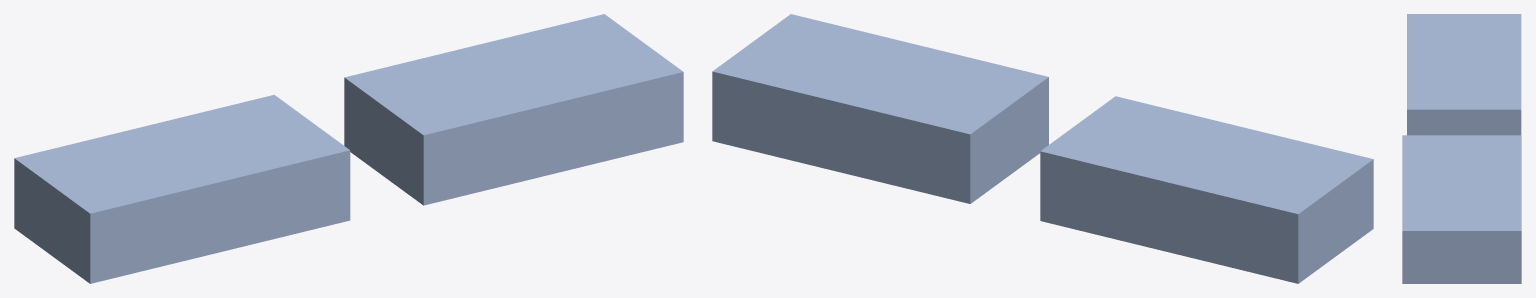
Rendered from Sodium_Hypochlorite_Storage_Tank.glb.
3 views of the same model, side by side, from view 1: azimuth 30°, elevation 25°; view 2: azimuth 150°, elevation 25°; view 3: azimuth 270°, elevation 25° (orthographic). The views are drawn at different scales.
Parts seen in each view (by area): view 1: Floor1; view 2: Floor1; view 3: Floor1.
Part boxes in pixels (bbox=[...]): Floor1: bbox=[14, 14, 683, 283]; Floor1: bbox=[712, 14, 1373, 283]; Floor1: bbox=[1402, 14, 1521, 283].
Size of the model in its own units: 36.93 by 4.2 by 8.58.
